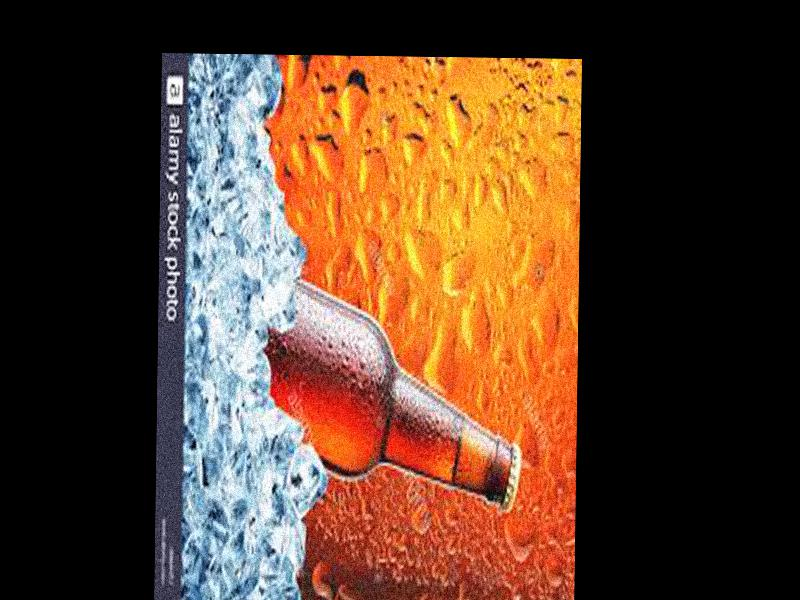Beer: (260, 282, 524, 524)
